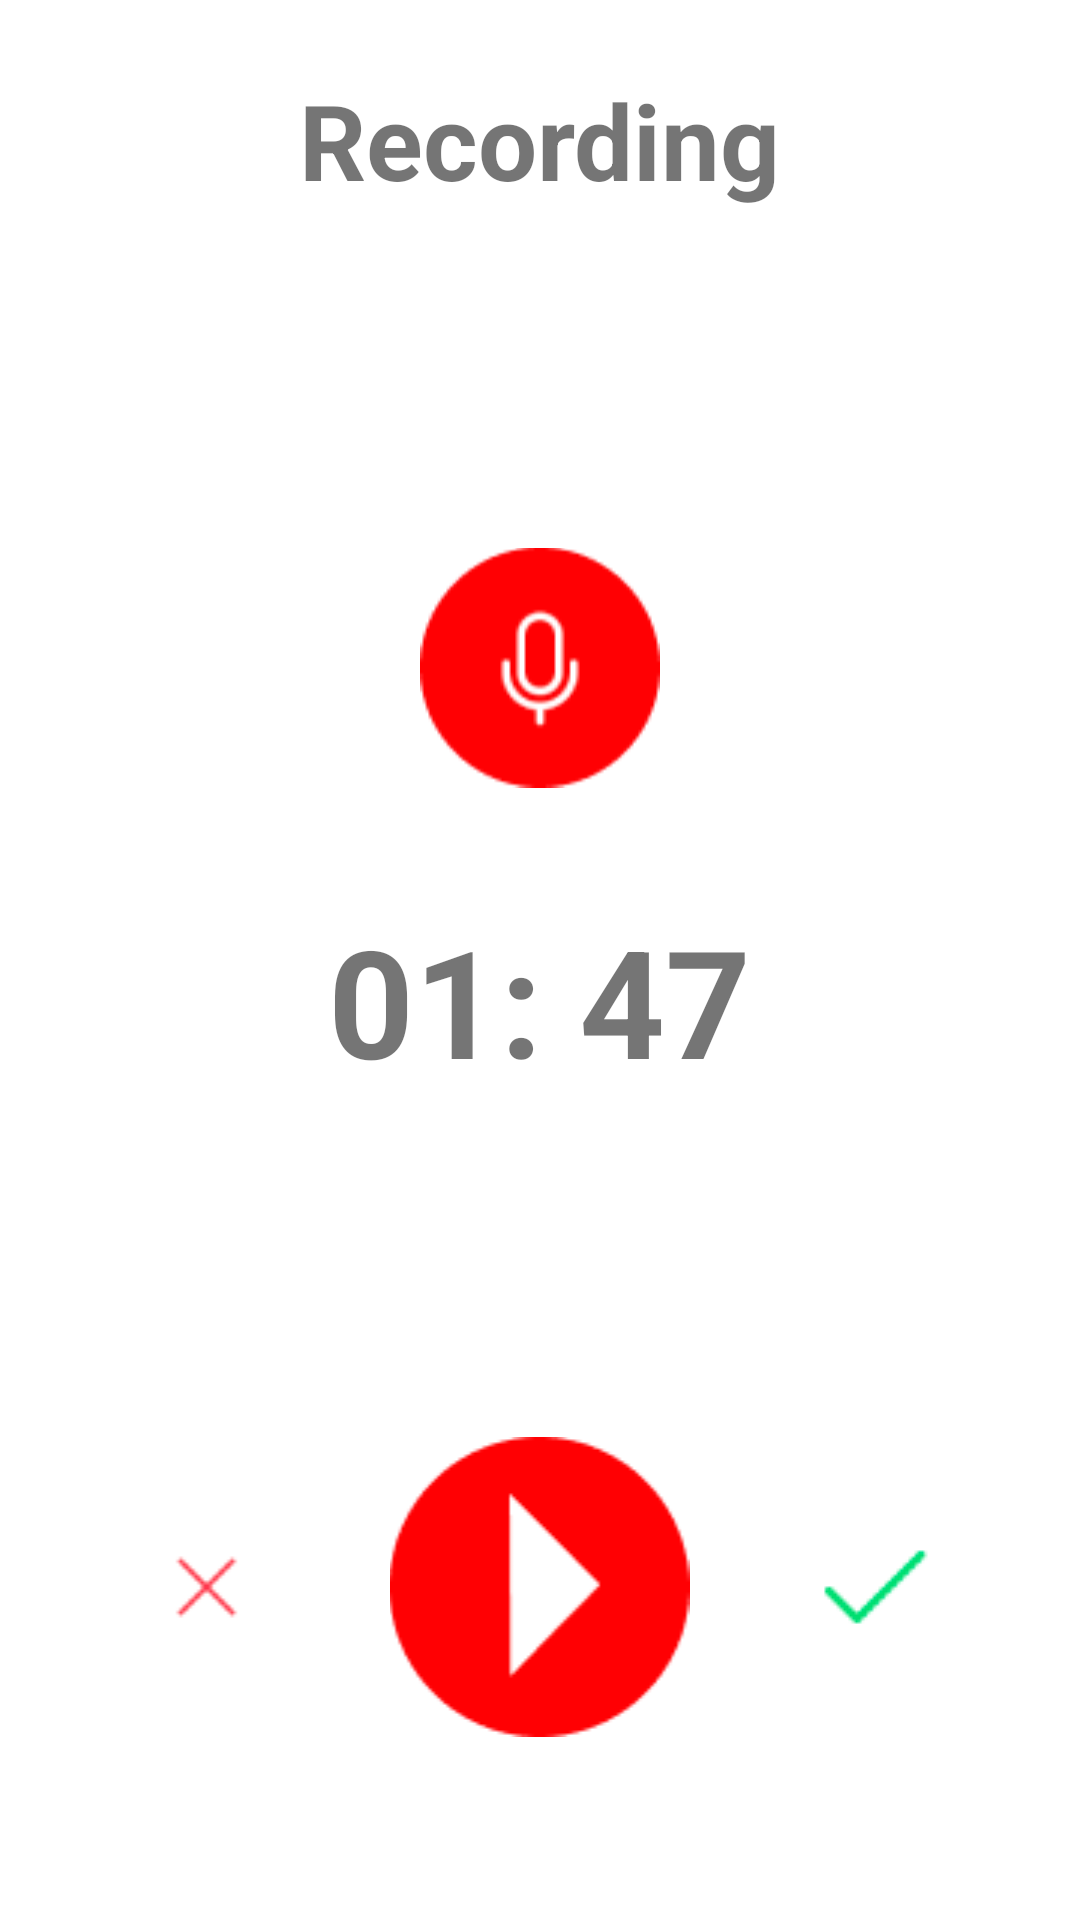

Locate icon controls on the screen. Image size 1080x1920, boxes as (x1=x1, y1=y1, x2=x2, y2=y2).
cross: (x1=176, y1=1557, x2=237, y2=1617)
mic: (x1=420, y1=548, x2=660, y2=788)
play: (x1=390, y1=1437, x2=690, y2=1737)
tick: (x1=824, y1=1550, x2=928, y2=1624)
